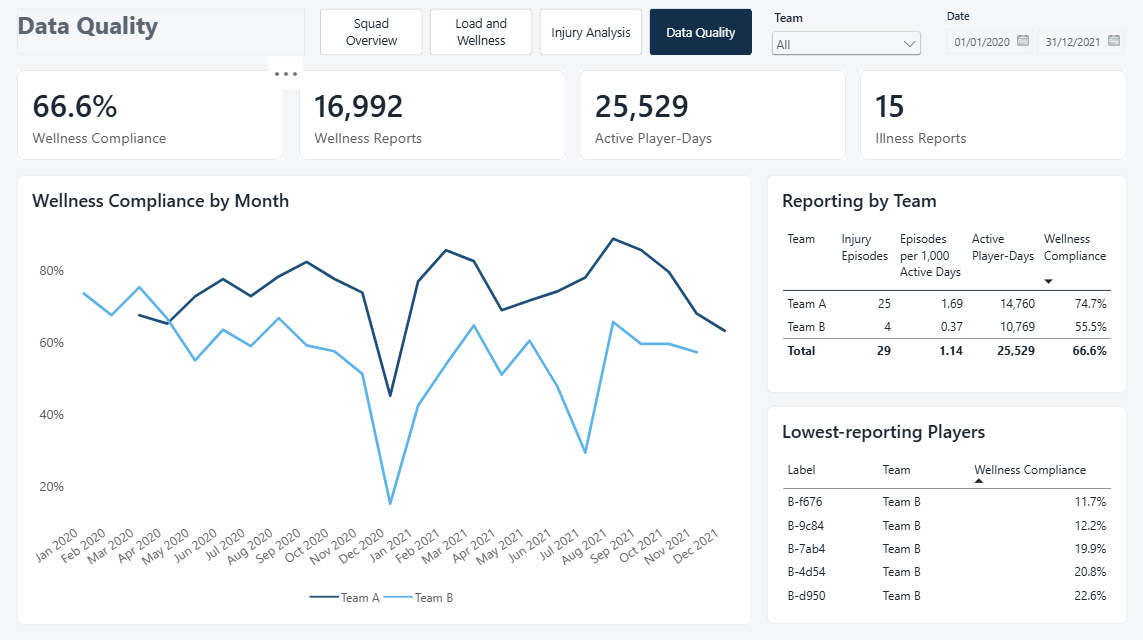

The page's visual inventory and layout, read from the dashboard file:
{"tool":"powerbi","page":{"name":"Data Quality","canvas":[1280,720],"ordinal":3},"visuals":[{"type":"cardVisual","title":"Compliance KPI","fields":{"Data":["_Measure.Wellness Compliance"]},"box":[24,80,296,100],"z":0},{"type":"cardVisual","title":"Illness Reports KPI","fields":{"Data":["_Measure.Illness Reports"]},"box":[960,80,296,100],"z":1000},{"type":"cardVisual","title":"Active Player Days KPI","fields":{"Data":["_Measure.Active Player-Days"]},"box":[648,80,296,100],"z":2000},{"type":"cardVisual","title":"Wellness Reports KPI","fields":{"Data":["_Measure.Wellness Reports"]},"box":[336,80,296,100],"z":3000},{"type":"lineChart","title":"Wellness Compliance by Month","fields":{"Category":["Date.Month"],"Series":["Players.Team"],"Y":["_Measure.Wellness Compliance"]},"box":[24,196,816,500],"z":4000},{"type":"tableEx","title":"Reporting by Team","fields":{"Values":["Players.Team","_Measure.Injury Episodes","_Measure.Episodes per 1,000 Active Days","_Measure.Active Player-Days","_Measure.Wellness Compliance"]},"box":[856,196,400,242],"z":5000},{"type":"textbox","title":"Title","box":[24,12,320,52],"z":6000},{"type":"pageNavigator","box":[360,12,480,52],"z":7000},{"type":"slicer","title":"Team Slicer","fields":{"Values":["Players.Team"]},"box":[856,12,176,52],"z":8000},{"type":"slicer","title":"Date Slicer","fields":{"Values":["Date.Date"]},"box":[1048,12,208,52],"z":9000},{"type":"tableEx","title":"Lowest-reporting Players","fields":{"Values":["Players.Label","Players.Team","_Measure.Wellness Compliance"]},"box":[856,454,400,242],"z":10000}]}

Visuals, with their boxes in screenshot pixels (x1, y1, x2, y2), scaled from the page's 1280x720 canvas onto the 1143x640 screenshot:
"Compliance KPI" cardVisual: left=21, top=71, right=286, bottom=160
"Illness Reports KPI" cardVisual: left=857, top=71, right=1122, bottom=160
"Active Player Days KPI" cardVisual: left=579, top=71, right=843, bottom=160
"Wellness Reports KPI" cardVisual: left=300, top=71, right=564, bottom=160
"Wellness Compliance by Month" lineChart: left=21, top=174, right=750, bottom=619
"Reporting by Team" tableEx: left=764, top=174, right=1122, bottom=389
"Title" textbox: left=21, top=11, right=307, bottom=57
pageNavigator: left=321, top=11, right=750, bottom=57
"Team Slicer" slicer: left=764, top=11, right=922, bottom=57
"Date Slicer" slicer: left=936, top=11, right=1122, bottom=57
"Lowest-reporting Players" tableEx: left=764, top=404, right=1122, bottom=619
